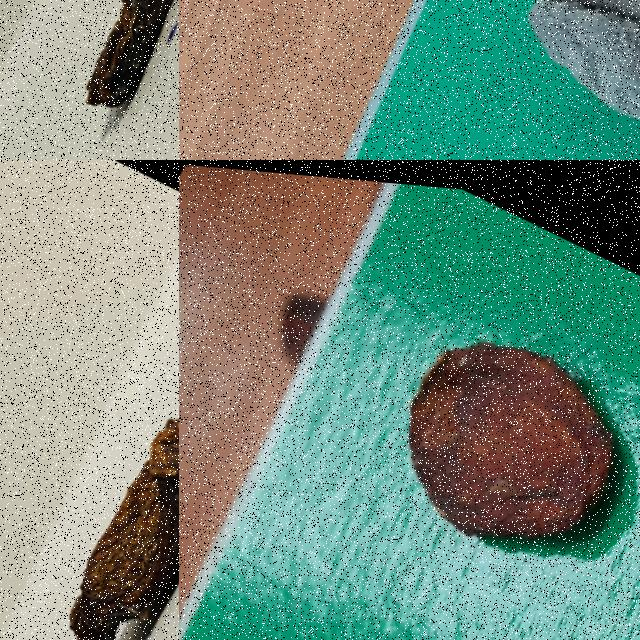Agglomerated_cocoabeans: (430, 0, 639, 159)
Flat_cocoabeans: (330, 250, 639, 639), (0, 290, 178, 639), (34, 0, 178, 159)
